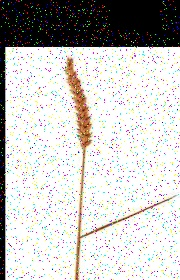wheat: (62, 54, 94, 159)
